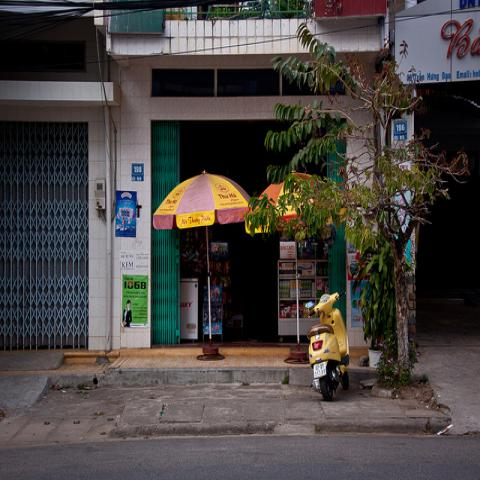motorcycle: (306, 289, 351, 403)
